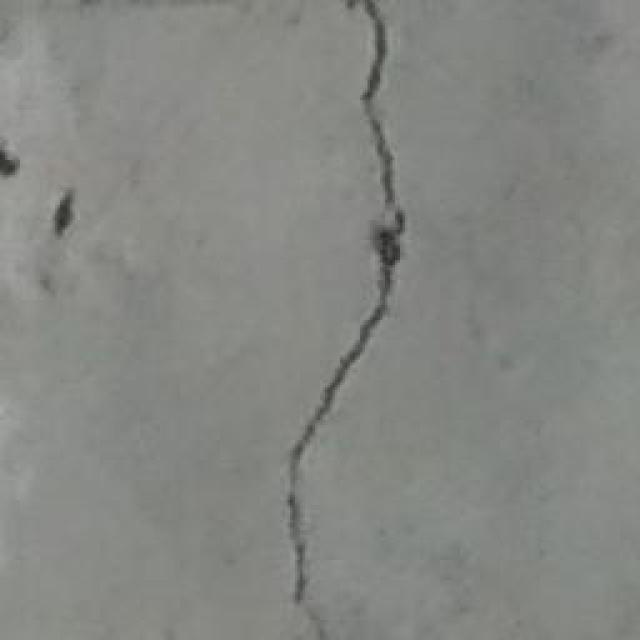Diagonal: (257, 0, 433, 640)
